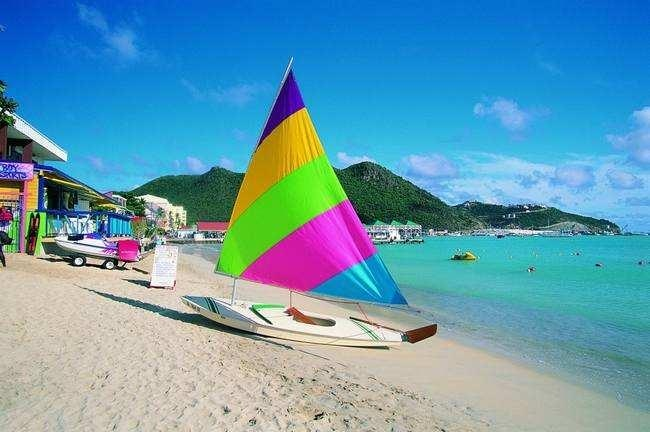fanchuan: (179, 57, 440, 349)
